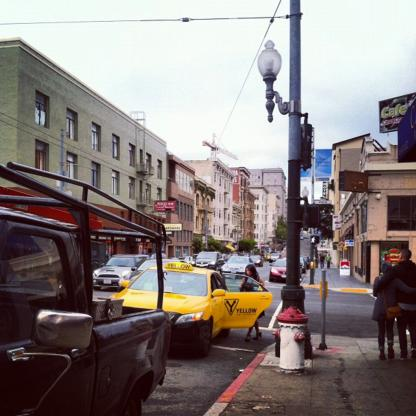Car: (92, 252, 272, 354), (268, 258, 302, 282)
